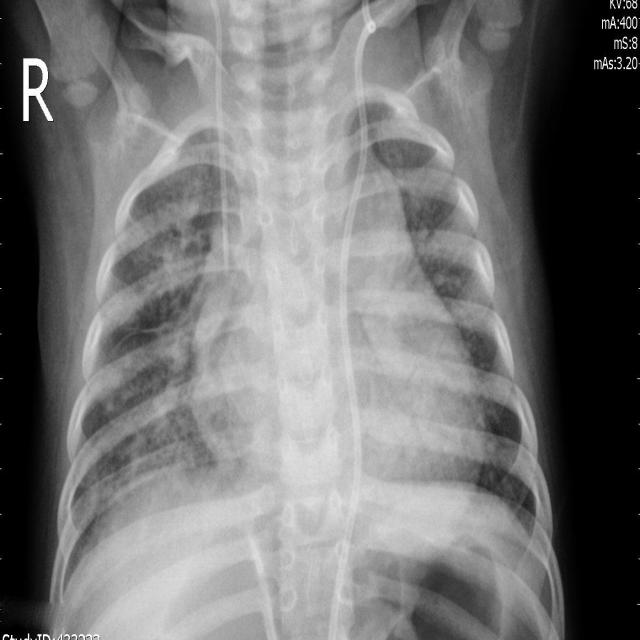low-pneumonia: (138, 322, 231, 515), (145, 176, 211, 315)
